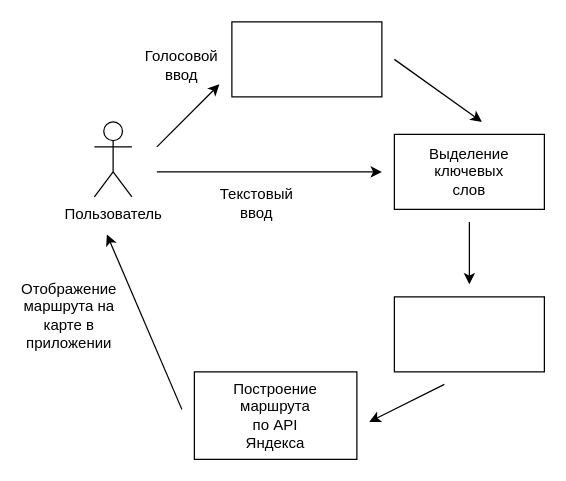
Image size: 566x481. Some labels were removed from this diagram. The shapes that lost their labels are listed below. From the top down, each one's centre as x and y in pixels, then its label:
the point at 306,59: Преобразование в текст
the point at 468,334: Формализация и формирование JSON на вход
